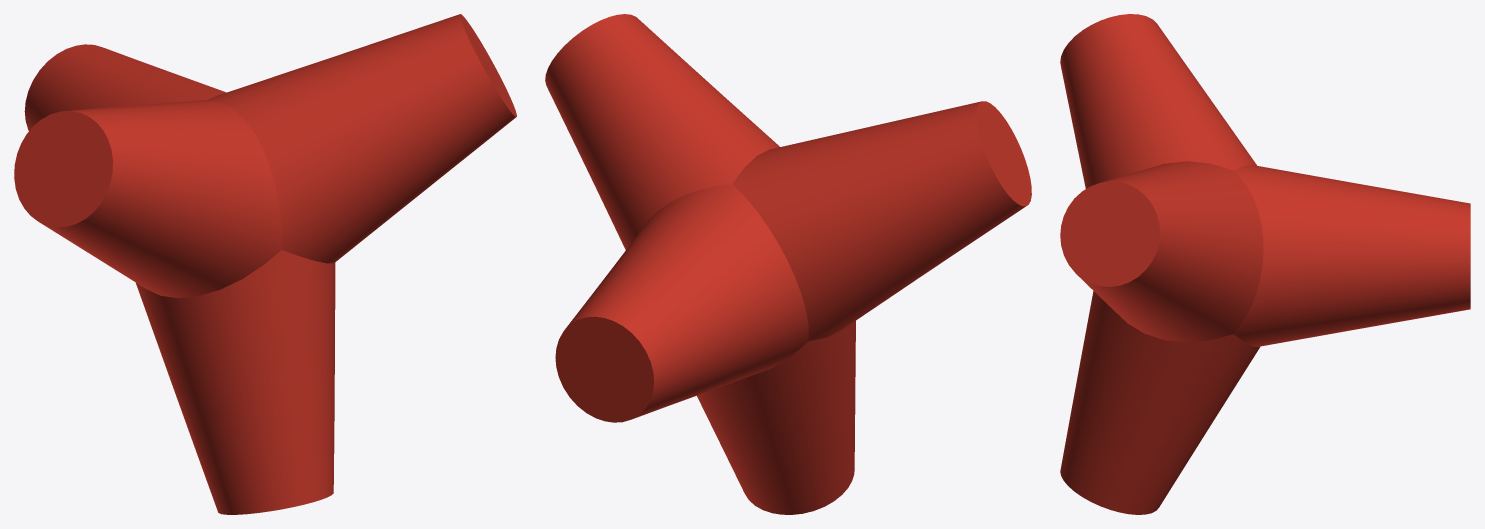
File: Tetrapodo Israel.fbx
The picture shows the model from 3 angles, left to right: view 1: azimuth 30°, elevation 25°; view 2: azimuth 150°, elevation 25°; view 3: azimuth 270°, elevation 25°; orthographic projection. The views are drawn at different scales.
Parts seen in each view (by area): view 1: Body1; view 2: Body1; view 3: Body1.
Part boxes in pixels (x1,y1,x2,y2): Body1: (14,14,516,514); Body1: (545,14,1031,514); Body1: (1060,14,1470,514).
Bounding box in the file's own units: 530 × 472 × 433.
